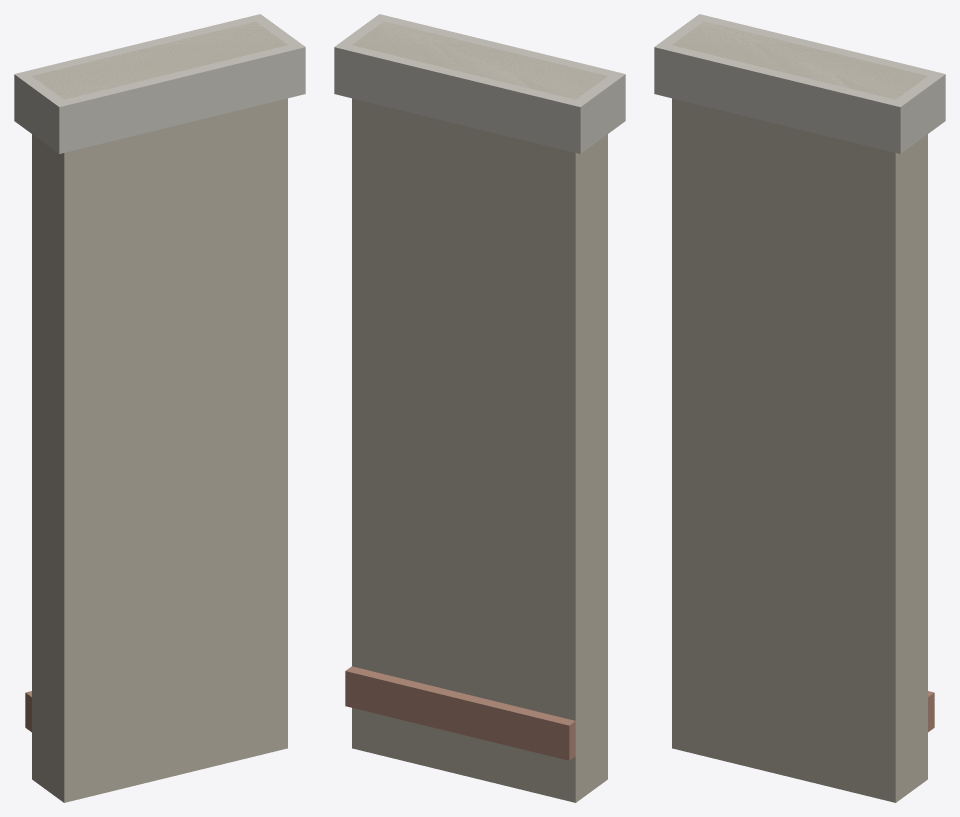
Rendered from iz3_build_defense_reinforce_01.glb.
3 renders of one model, left to right at view 1: azimuth 30°, elevation 25°; view 2: azimuth 150°, elevation 25°; view 3: azimuth 330°, elevation 25°, orthographic.
Parts seen in each view (by area): view 1: wall, cornice; view 2: wall, cornice, sill; view 3: wall, cornice.
Boxes of the visible parts, x1,y1,x2,y2 form: wall: (32,22,287,802); cornice: (14,14,305,153); wall: (352,22,607,802); cornice: (334,14,625,153); sill: (345,666,575,760); wall: (672,22,927,802); cornice: (654,14,945,153).
Size of the model in its own units: 0.88 by 2.4 by 0.28.
